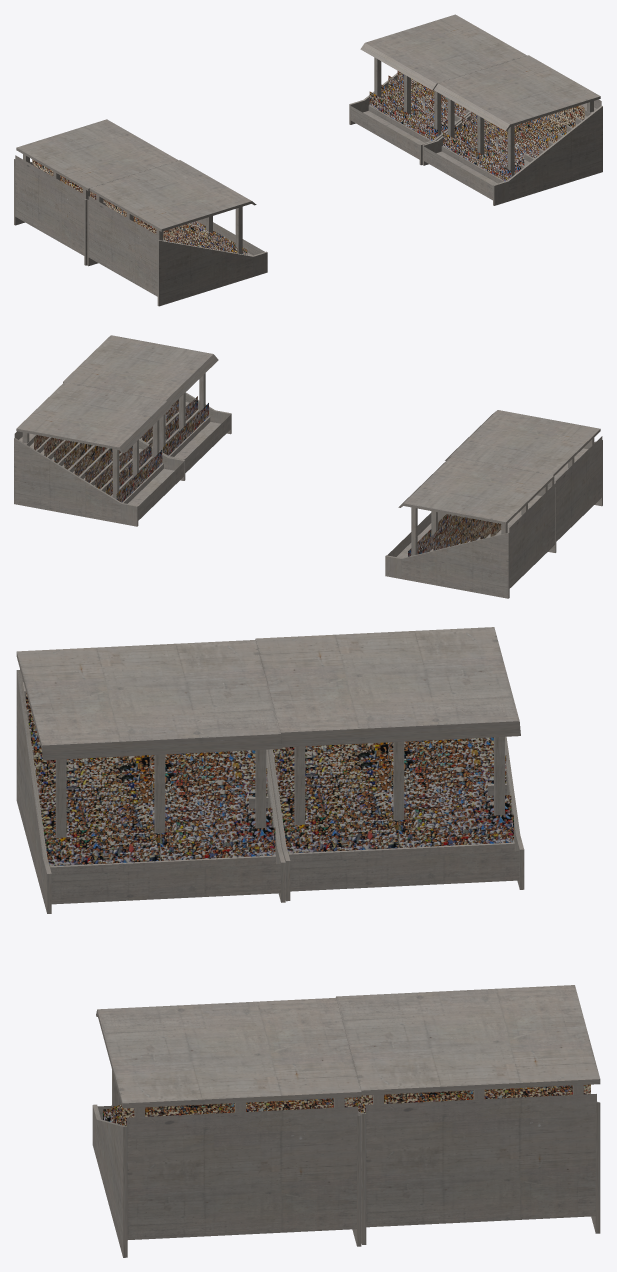
Rendered from Gradas.obj.
3 views of the same model, one above another, from view 1: azimuth 30°, elevation 25°; view 2: azimuth 150°, elevation 25°; view 3: azimuth 270°, elevation 25° (orthographic). The views are drawn at different scales.
Parts seen in each view (by area): view 1: Pilares y lados, Mesh, Escaleras; view 2: Pilares y lados, Mesh, Escaleras; view 3: Pilares y lados, Escaleras, Mesh.
Boxes of the visible parts, x1,y1,x2,y2 form: Pilares y lados: (14, 14, 602, 306); Mesh: (369, 70, 466, 140); Escaleras: (350, 96, 469, 159); Pilares y lados: (14, 335, 602, 598); Mesh: (34, 435, 162, 502); Escaleras: (14, 431, 183, 520); Pilares y lados: (16, 627, 600, 1257); Escaleras: (365, 1094, 596, 1227); Mesh: (352, 1084, 590, 1113).
Size of the model in its own units: 150 by 22.08 by 76.76.
